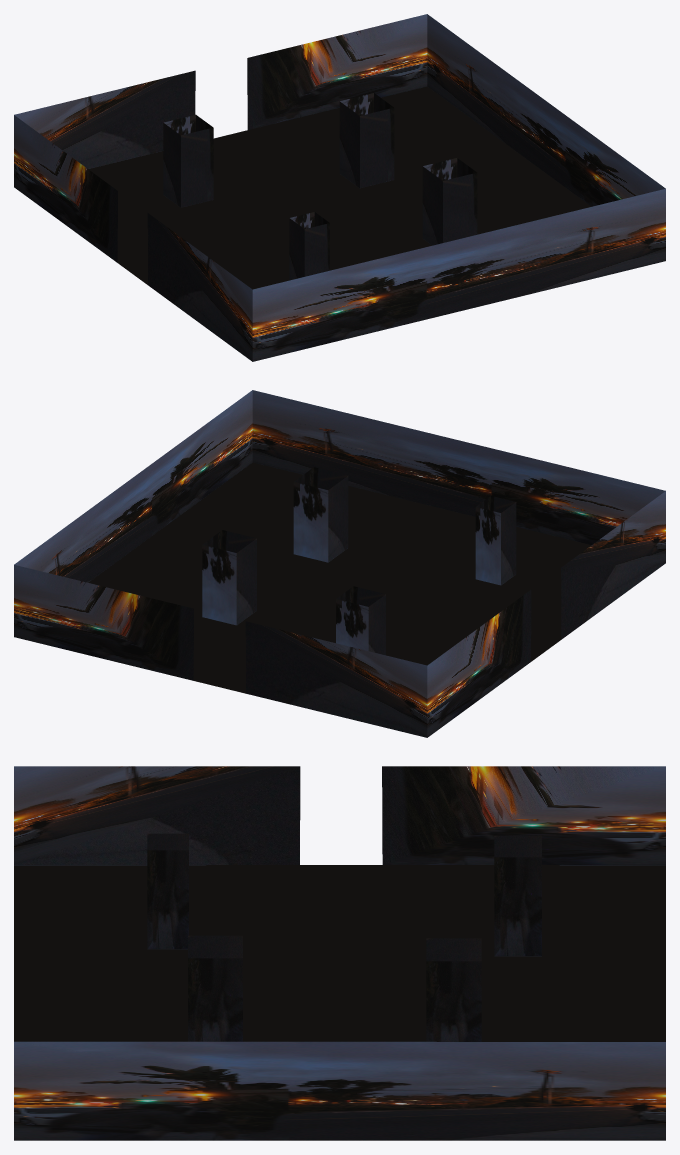
The model's file is Dark_Photo_Rm_Coll.fbx.
3 views of the same model, one above another, from view 1: azimuth 30°, elevation 25°; view 2: azimuth 150°, elevation 25°; view 3: azimuth 270°, elevation 25° (orthographic). The views are drawn at different scales.
Visible parts, largest first — view 1: P_Dark_Photo_Rm_Coll; view 2: P_Dark_Photo_Rm_Coll; view 3: P_Dark_Photo_Rm_Coll.
Boxes of the visible parts, left/top/right/bottom form: P_Dark_Photo_Rm_Coll: left=14, top=14, right=665, bottom=361; P_Dark_Photo_Rm_Coll: left=14, top=390, right=665, bottom=737; P_Dark_Photo_Rm_Coll: left=14, top=766, right=665, bottom=1140.
Bounding box in the file's own units: 27.81 × 4.66 × 27.81.
